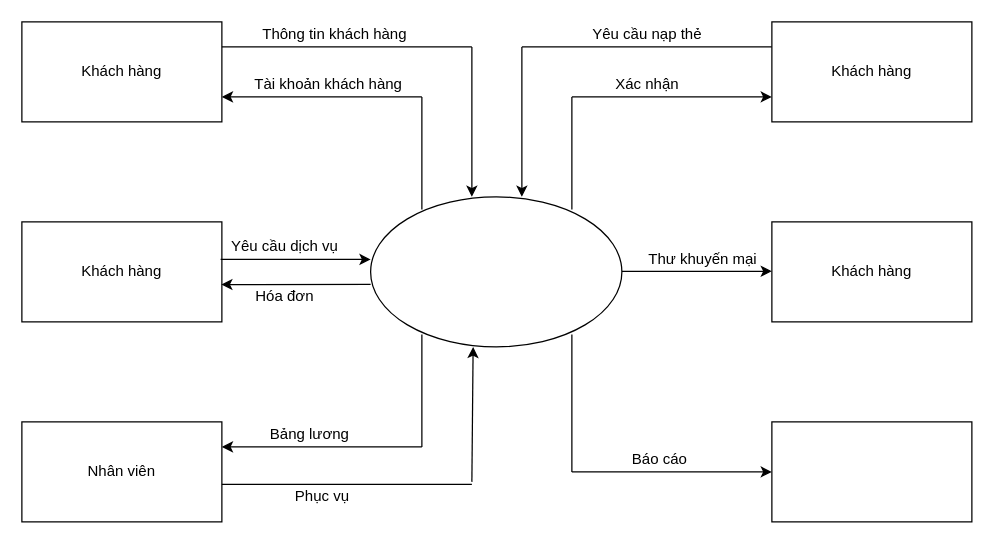
Image size: 994x544. Some labels were removed from this diagram. Each missing label, with the box of its shape:
Bộ phận quản lý: (771, 421, 972, 522)
QUẢN LÝ QUÁN INTERNET: (369, 196, 622, 347)
